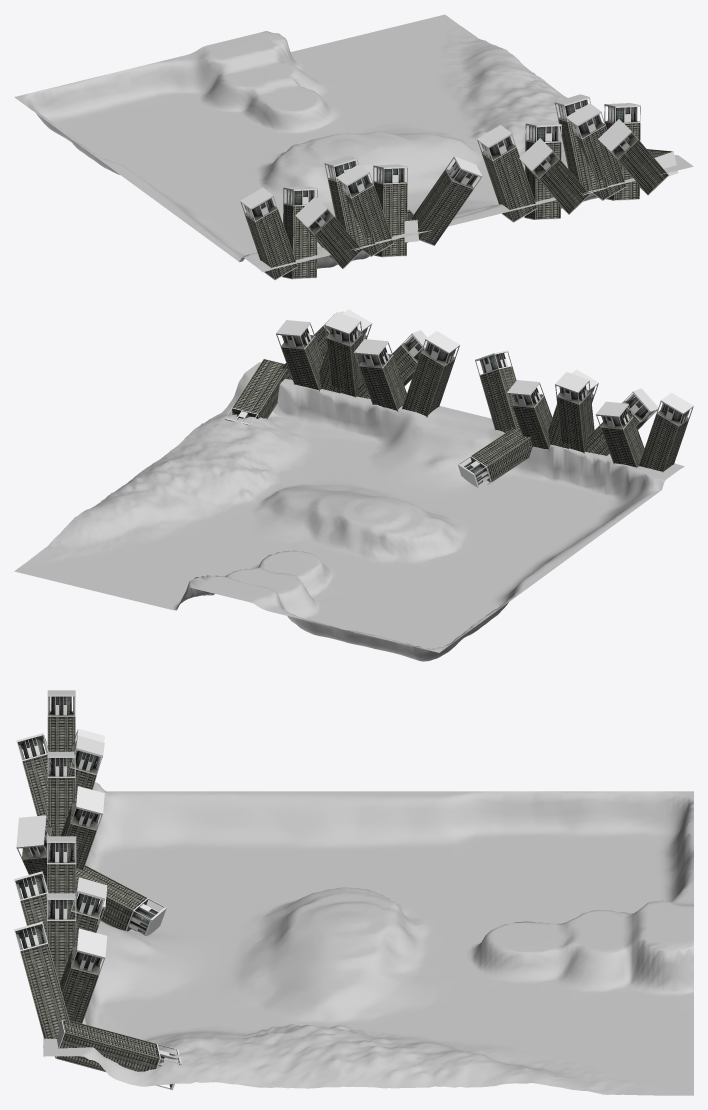
File: terrain_test.fbx
3 renders of one model, top to bottom at view 1: azimuth 30°, elevation 25°; view 2: azimuth 150°, elevation 25°; view 3: azimuth 270°, elevation 25°, orthographic. The views are drawn at different scales.
Visible parts, largest first — view 1: Terrain_QuarterResolution:Mesh, building_2:polySurface1, polySurface14, polySurface8, polySurface4, polySurface12, polySurface13, polySurface2, polySurface6, polySurface9, polySurface10, polySurface3 (+3 smaller); view 2: Terrain_QuarterResolution:Mesh, building_2:polySurface1, polySurface8, polySurface3, polySurface1, polySurface11, polySurface15, polySurface5, polySurface14, polySurface7, polySurface9, polySurface13 (+4 smaller); view 3: Terrain_QuarterResolution:Mesh, polySurface7, polySurface6, polySurface5, polySurface15, polySurface13, polySurface12, polySurface4, polySurface10, polySurface8, building_2:polySurface1, polySurface14 (+3 smaller).
Boxes of the visible parts, x1=… form: Terrain_QuarterResolution:Mesh: x1=14, y1=14, x2=693, y2=272; building_2:polySurface1: x1=477, y1=125, x2=537, y2=222; polySurface14: x1=411, y1=156, x2=482, y2=245; polySurface8: x1=240, y1=187, x2=297, y2=280; polySurface4: x1=566, y1=103, x2=626, y2=200; polySurface12: x1=336, y1=164, x2=393, y2=256; polySurface13: x1=373, y1=164, x2=407, y2=257; polySurface2: x1=519, y1=138, x2=589, y2=214; polySurface6: x1=598, y1=119, x2=668, y2=195; polySurface9: x1=282, y1=186, x2=317, y2=279; polySurface10: x1=295, y1=196, x2=362, y2=268; polySurface3: x1=554, y1=94, x2=608, y2=195; Terrain_QuarterResolution:Mesh: x1=14, y1=362, x2=684, y2=661; building_2:polySurface1: x1=402, y1=331, x2=459, y2=417; polySurface8: x1=638, y1=392, x2=693, y2=472; polySurface3: x1=325, y1=312, x2=363, y2=397; polySurface1: x1=353, y1=339, x2=406, y2=411; polySurface11: x1=555, y1=372, x2=594, y2=453; polySurface15: x1=458, y1=426, x2=532, y2=487; polySurface5: x1=276, y1=320, x2=323, y2=391; polySurface14: x1=475, y1=350, x2=518, y2=432; polySurface7: x1=225, y1=358, x2=287, y2=425; polySurface9: x1=595, y1=401, x2=644, y2=467; polySurface13: x1=507, y1=380, x2=552, y2=450; Terrain_QuarterResolution:Mesh: x1=43, y1=782, x2=693, y2=1095; polySurface7: x1=54, y1=1019, x2=181, y2=1090; polySurface6: x1=14, y1=921, x2=70, y2=1039; polySurface5: x1=43, y1=928, x2=107, y2=1046; polySurface15: x1=76, y1=865, x2=166, y2=935; polySurface13: x1=60, y1=786, x2=104, y2=870; polySurface12: x1=47, y1=751, x2=75, y2=836; polySurface4: x1=46, y1=893, x2=76, y2=982; polySurface10: x1=16, y1=733, x2=51, y2=827; polySurface8: x1=47, y1=690, x2=75, y2=759; building_2:polySurface1: x1=46, y1=836, x2=76, y2=893; polySurface14: x1=16, y1=815, x2=54, y2=892.
Bounding box in the file's own units: 3074 × 782 × 3136.
